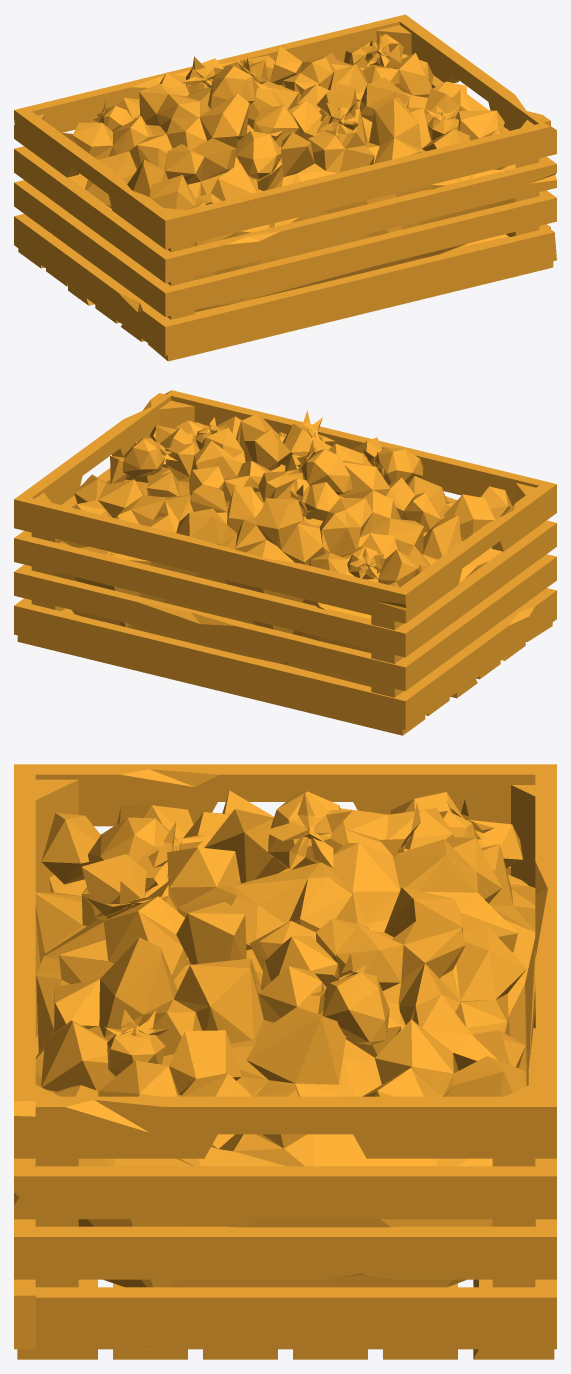
File: SM_Crate_Wood_Medium_Strawberries.fbx
The picture shows the model from 3 angles, top to bottom: view 1: azimuth 30°, elevation 25°; view 2: azimuth 150°, elevation 25°; view 3: azimuth 270°, elevation 25°; orthographic projection. The views are drawn at different scales.
Visible parts, largest first — view 1: crate-wood-medium-strawberries; view 2: crate-wood-medium-strawberries; view 3: crate-wood-medium-strawberries.
Boxes of the visible parts, x1,y1,x2,y2 form: crate-wood-medium-strawberries: (14, 14, 556, 361); crate-wood-medium-strawberries: (14, 390, 556, 735); crate-wood-medium-strawberries: (14, 764, 556, 1359).
Size of the model in its own units: 0.6067 by 0.3058 by 0.4063.
